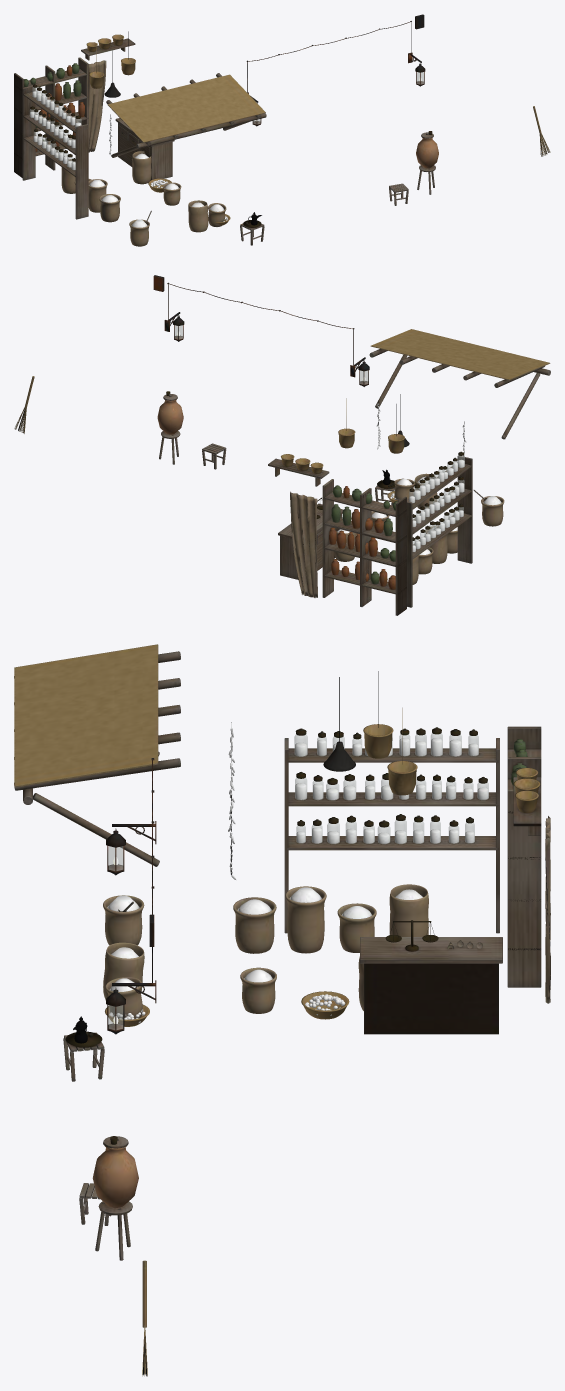
File: souq_heroprops_m.glb
3 renders of one model, top to bottom at view 1: azimuth 30°, elevation 25°; view 2: azimuth 150°, elevation 25°; view 3: azimuth 270°, elevation 25°, orthographic. The views are drawn at different scales.
Visible parts, largest first — view 1: GX_heroprops_LOD0, GX_heroprops_GLASS; view 2: GX_heroprops_LOD0, GX_heroprops_GLASS; view 3: GX_heroprops_LOD0, GX_heroprops_GLASS.
Boxes of the visible parts, box(x1,y1,x2,y2) form: GX_heroprops_LOD0: box(14, 14, 550, 246); GX_heroprops_GLASS: box(29, 72, 423, 170); GX_heroprops_LOD0: box(14, 275, 550, 615); GX_heroprops_GLASS: box(174, 325, 464, 552); GX_heroprops_LOD0: box(14, 644, 550, 1376); GX_heroprops_GLASS: box(108, 733, 488, 1029).
Size of what is drawn, in the model's own units: 10.55 by 3.86 by 5.56.
Materials: 3 (1 with a texture image).
